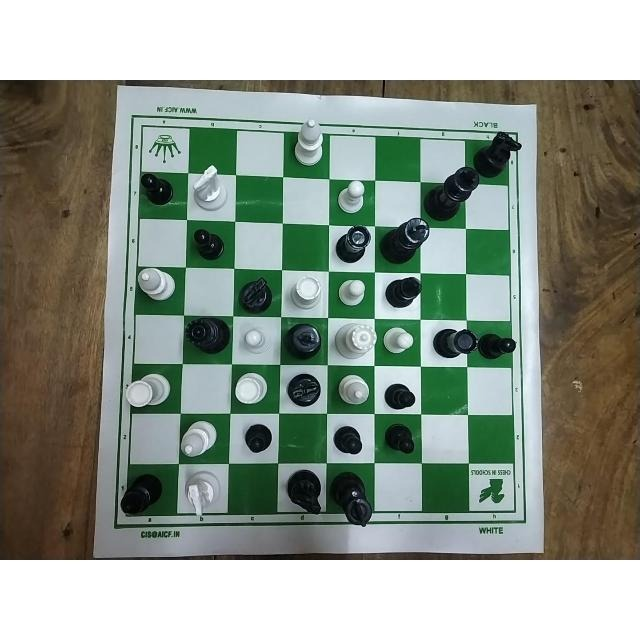black-bishop: (119, 469, 162, 513), (383, 276, 423, 308)
black-king: (423, 163, 479, 221), (326, 471, 379, 529), (380, 215, 432, 264), (283, 322, 325, 361)
black-knight: (474, 130, 522, 177), (286, 468, 322, 516), (237, 276, 275, 314), (287, 370, 320, 405)
black-pawn: (477, 331, 519, 362), (189, 229, 228, 261), (136, 174, 175, 204), (381, 380, 417, 411), (382, 422, 416, 454), (332, 425, 366, 457), (239, 422, 273, 453)
black-queen: (183, 315, 231, 356)
black-rook: (429, 325, 479, 358), (333, 222, 371, 264)
white-bishop: (127, 266, 177, 302), (293, 116, 327, 168), (178, 418, 220, 458), (335, 372, 371, 408)
white-knight: (188, 164, 230, 209), (180, 471, 221, 517)
white-pawn: (381, 323, 415, 361), (332, 179, 367, 213), (336, 275, 364, 310), (240, 326, 272, 354)
white-queen: (332, 322, 378, 358)
white-rook: (121, 373, 172, 411), (233, 370, 268, 404), (291, 275, 323, 310)
